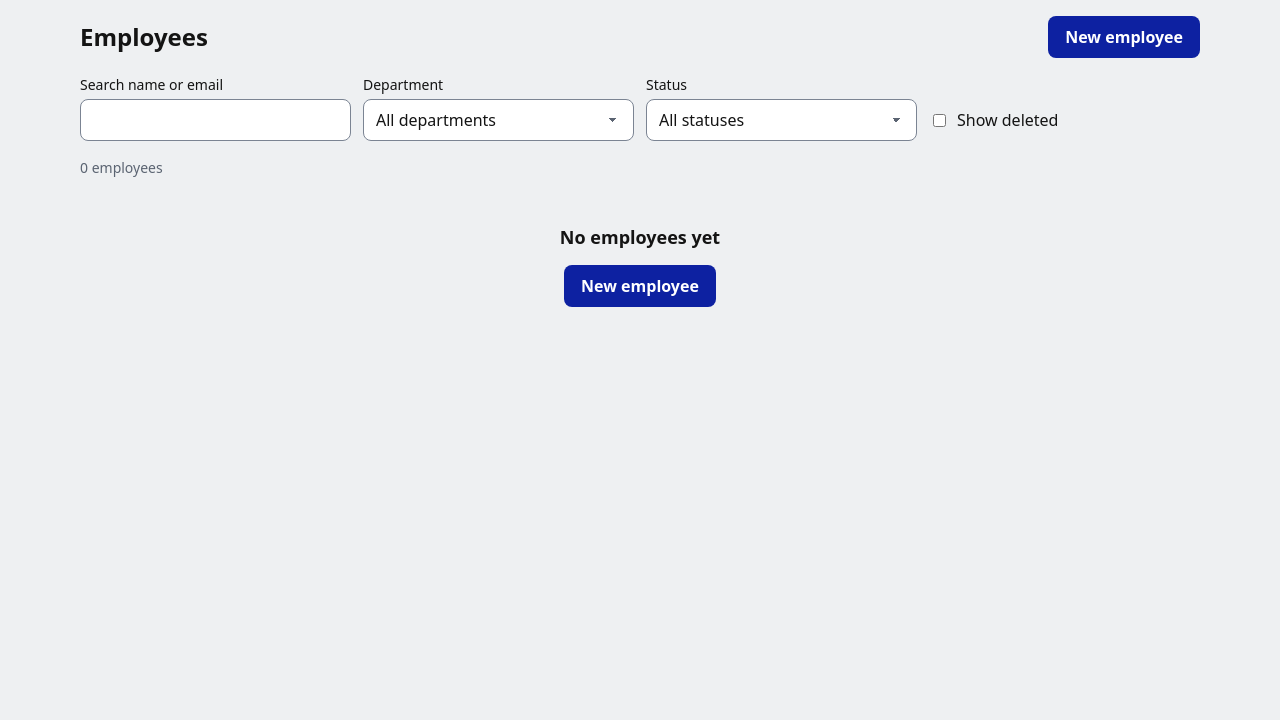
Test: Employee drawer - opening (edge cases 1, 2, 14) › opens the create drawer from the "No employees yet" empty state too
Click the button "New employee" below "No employees yet" at (640, 286), box [564,264,716,306]
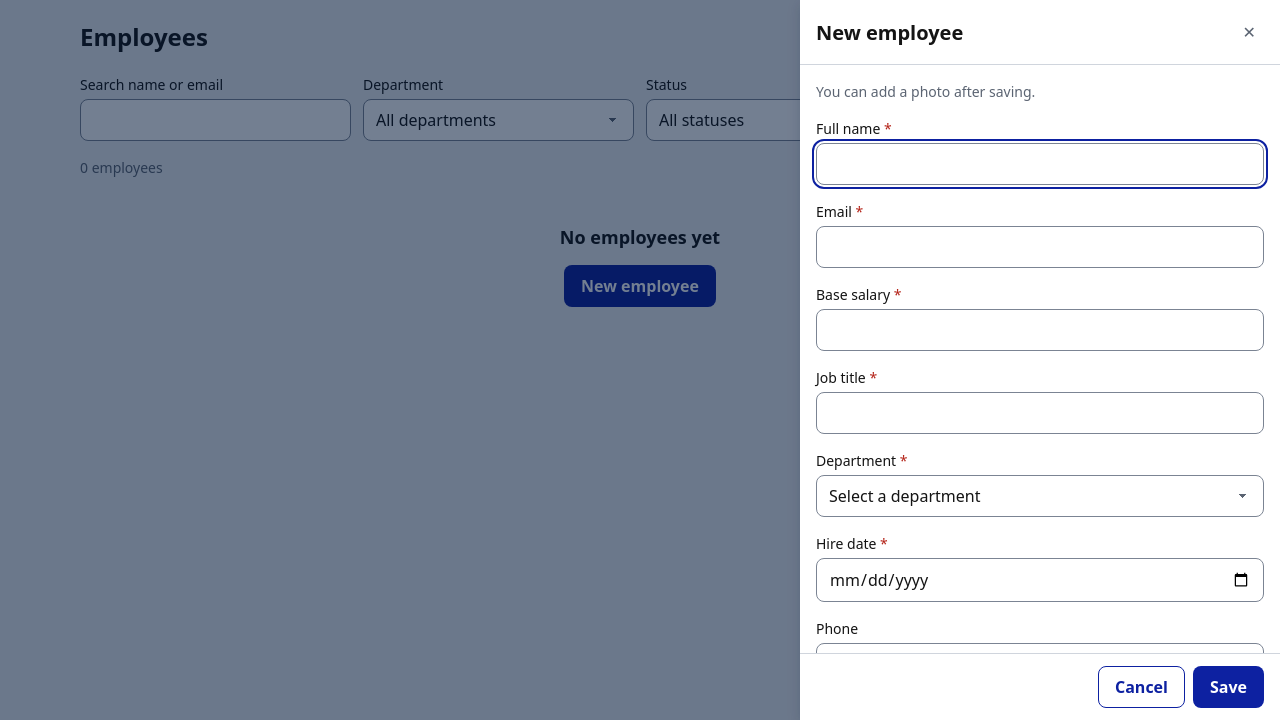
Expected: the dialog "New employee" is shown, [800,0,1279,719]
